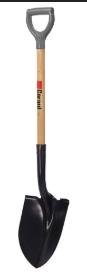PELLE: (0, 2, 87, 273)
